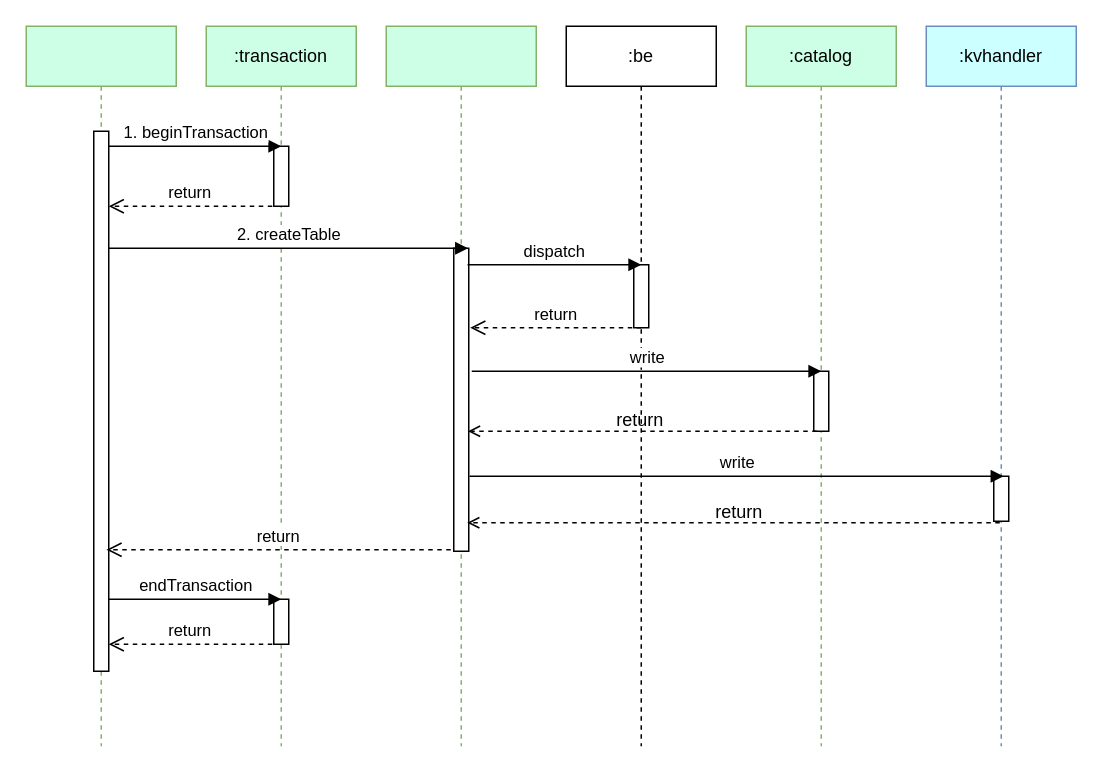
Some shapes in this 1103 by 773 pixel diagram are drawn without their labels. Here are the shapes that lost their labels. From the top down, the box of each, then its label:
(25, 25, 176, 746): :qe
(385, 25, 536, 746): :datasource
